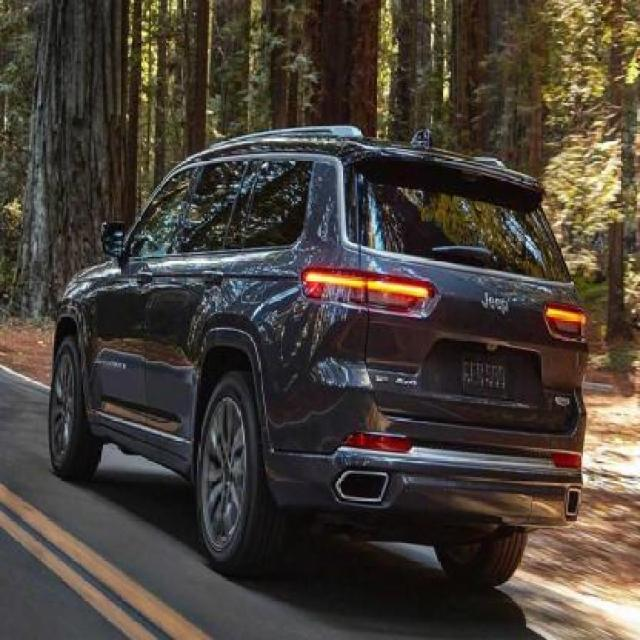Jeep: (42, 124, 590, 596)
